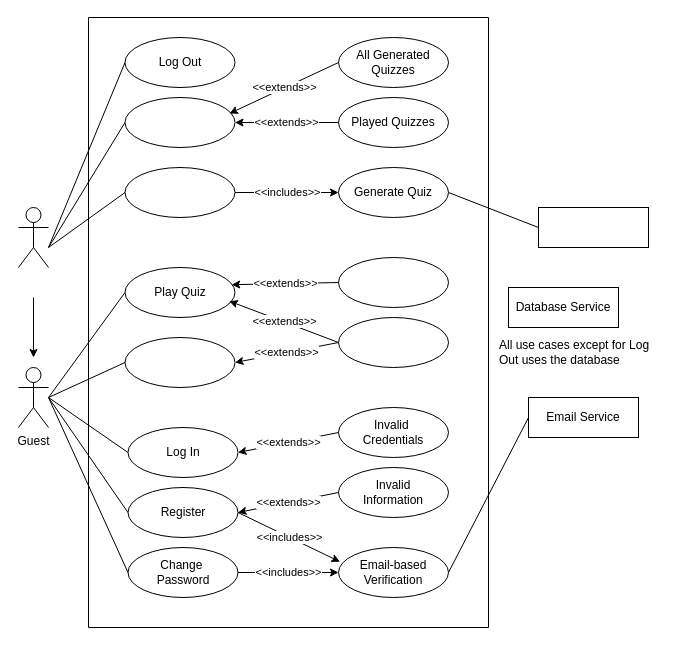
The diagram is 690 pixels wide and 645 high, and some of its shapes have lost their labels. The centre of each missing label's shape, as x and y in pixels:
"AI Service" belongs at point 593,227.
"Host Quiz" belongs at point 179,192.
"Invalid Quiz ID" belongs at point 393,342.
"Quiz Browser" belongs at point 179,122.
"Quiz Not Started" belongs at point 393,282.
"User" belongs at point 33,237.
"View Quiz Results and Live Scoreboard" belongs at point 179,362.
